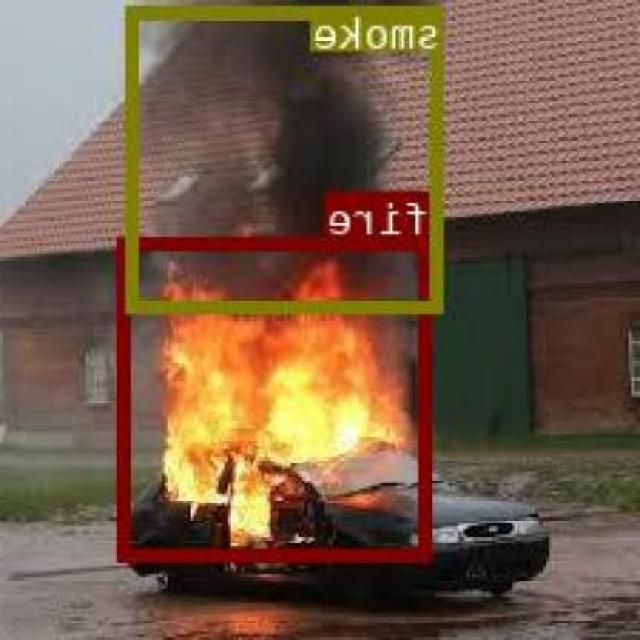Fire: (120, 250, 422, 560)
Smoke: (134, 25, 430, 306)
